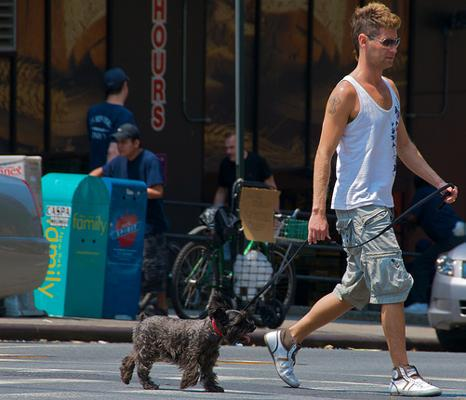person: (263, 4, 443, 395)
